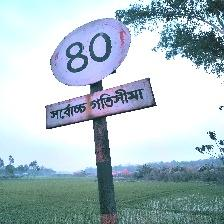Speed-limit: (46, 16, 154, 130)
